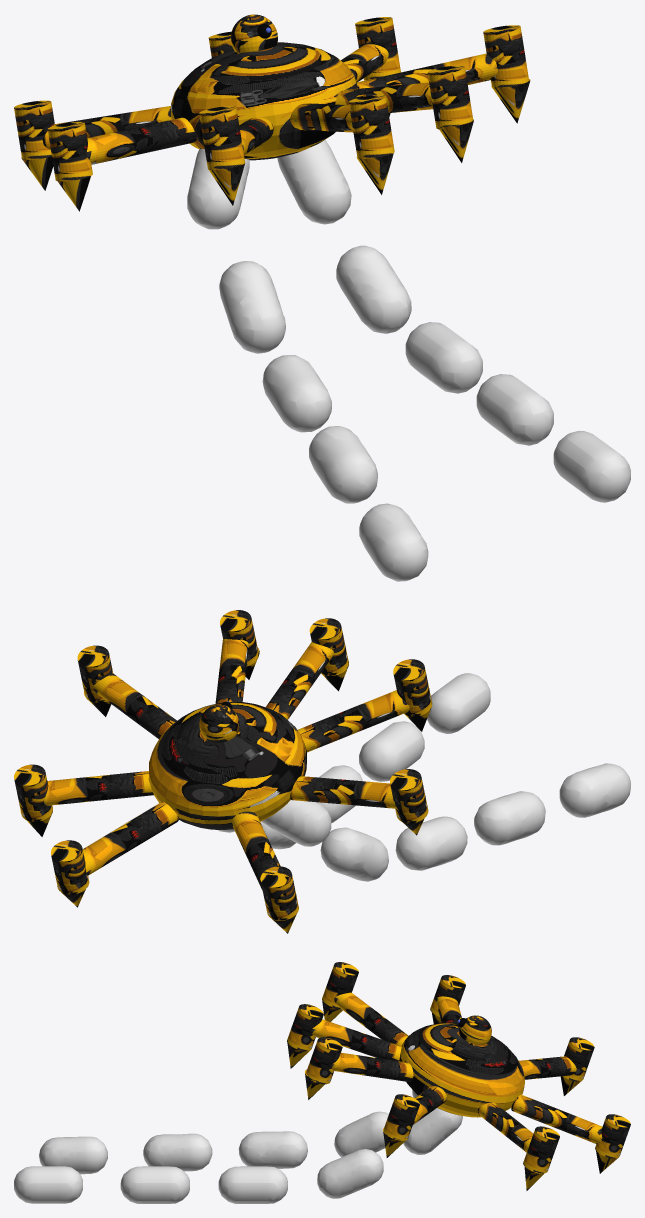
Rendered from Drone.fbx.
The picture shows the model from 3 angles, top to bottom: view 1: azimuth 30°, elevation 25°; view 2: azimuth 150°, elevation 25°; view 3: azimuth 270°, elevation 25°; orthographic projection. The views are drawn at different scales.
Parts seen in each view (by area): view 1: Cone.005, Mball; view 2: Cone.005, Mball; view 3: Cone.005, Mball.
Boxes of the visible parts, x1,y1,x2,y2 form: Cone.005: [14, 14, 530, 211]; Mball: [187, 140, 630, 581]; Cone.005: [14, 610, 432, 933]; Mball: [218, 673, 630, 881]; Cone.005: [287, 962, 630, 1190]; Mball: [14, 1090, 462, 1203].
Size of the model in its own units: 531 by 366 by 944.
